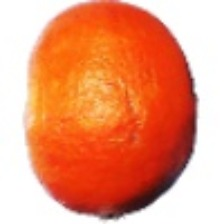tangerine: (46, 16, 219, 180)
